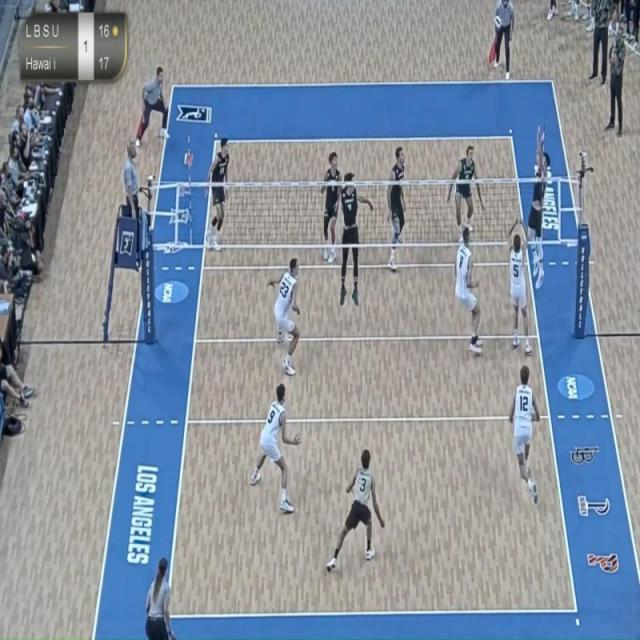volleyball: (490, 13, 506, 37)
